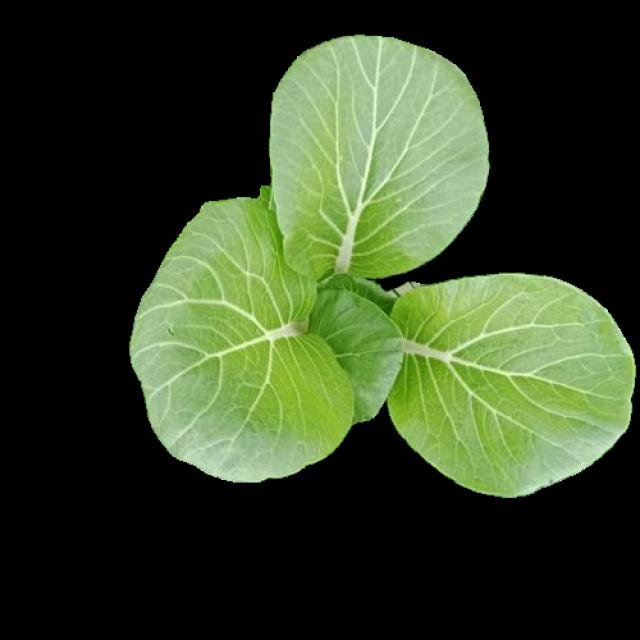healthy: (130, 36, 630, 493)
mature: (133, 38, 632, 496)
